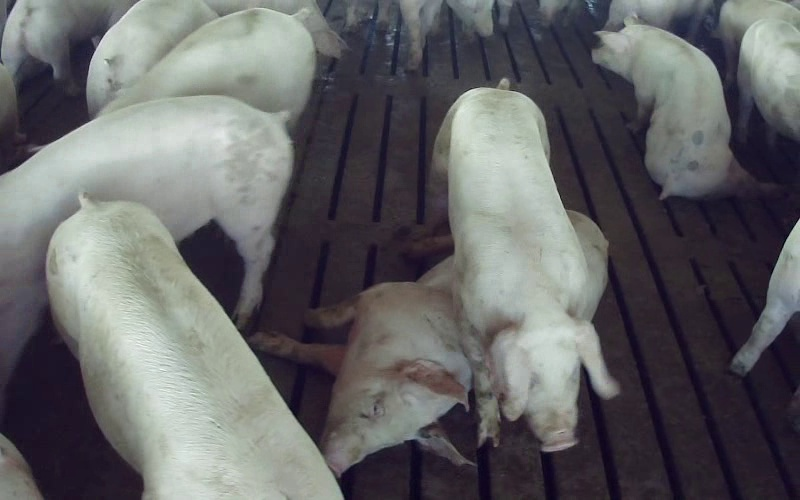pig: (0, 96, 291, 410), (46, 196, 340, 499), (433, 80, 618, 451), (249, 257, 470, 473), (592, 17, 773, 198), (102, 8, 315, 124), (2, 0, 135, 94), (737, 19, 799, 147)
